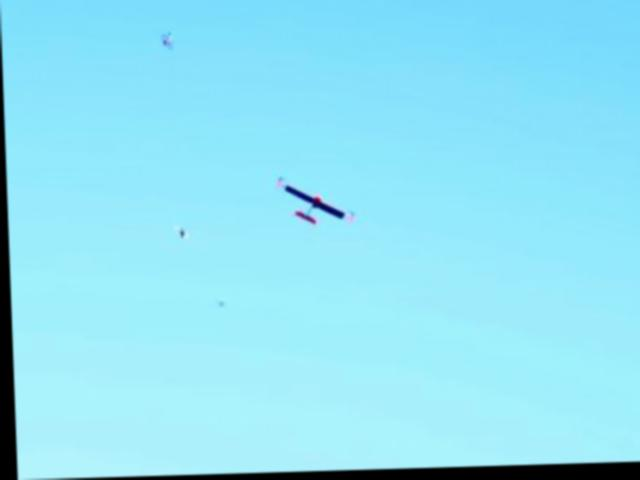uav: (266, 168, 364, 240)
